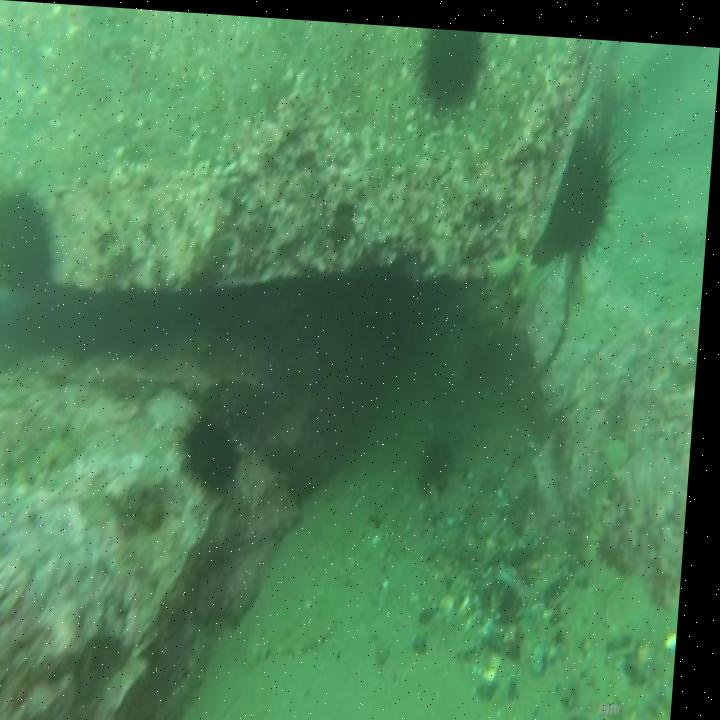echinus: (538, 102, 632, 275), (176, 391, 262, 505), (0, 183, 69, 303), (411, 24, 490, 122)
holothurian: (462, 233, 540, 347), (576, 430, 635, 569)
